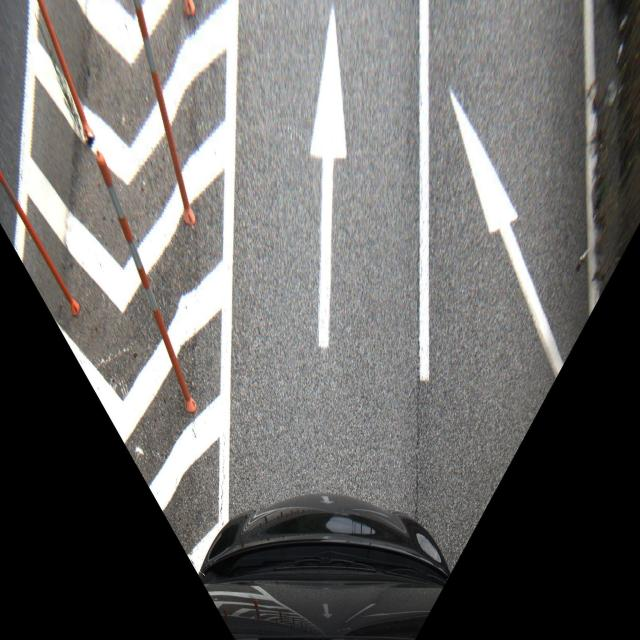forward: (226, 0, 431, 349)
